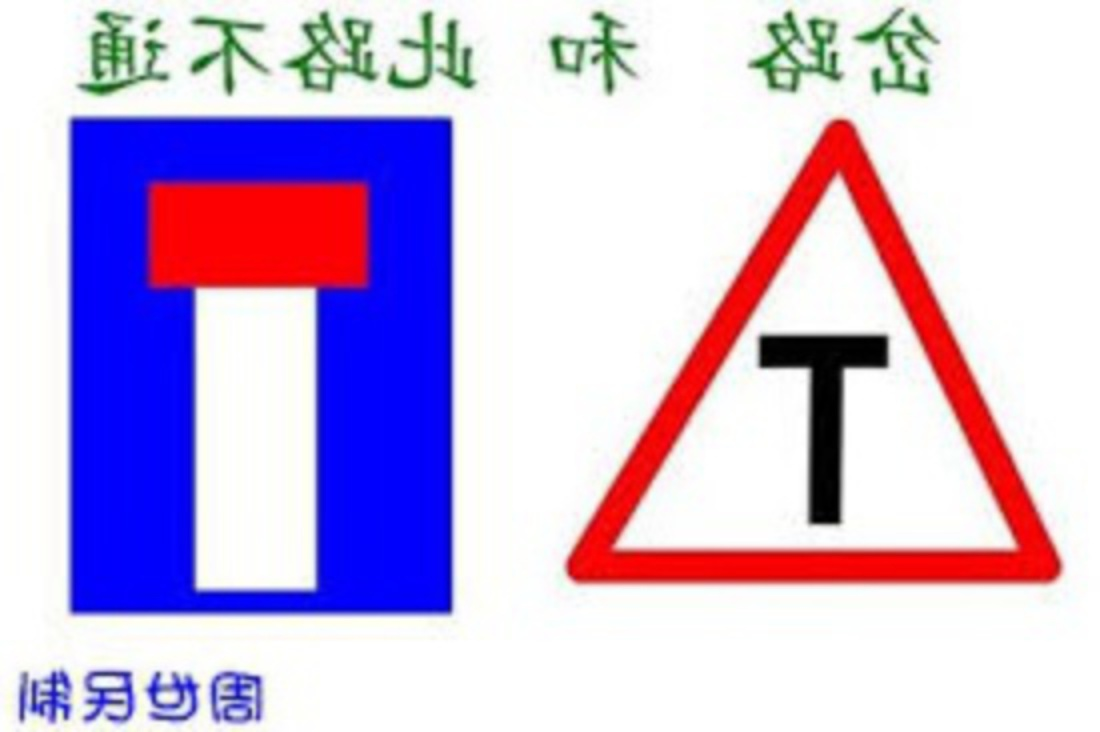Fork_road: (540, 115, 1078, 601)
